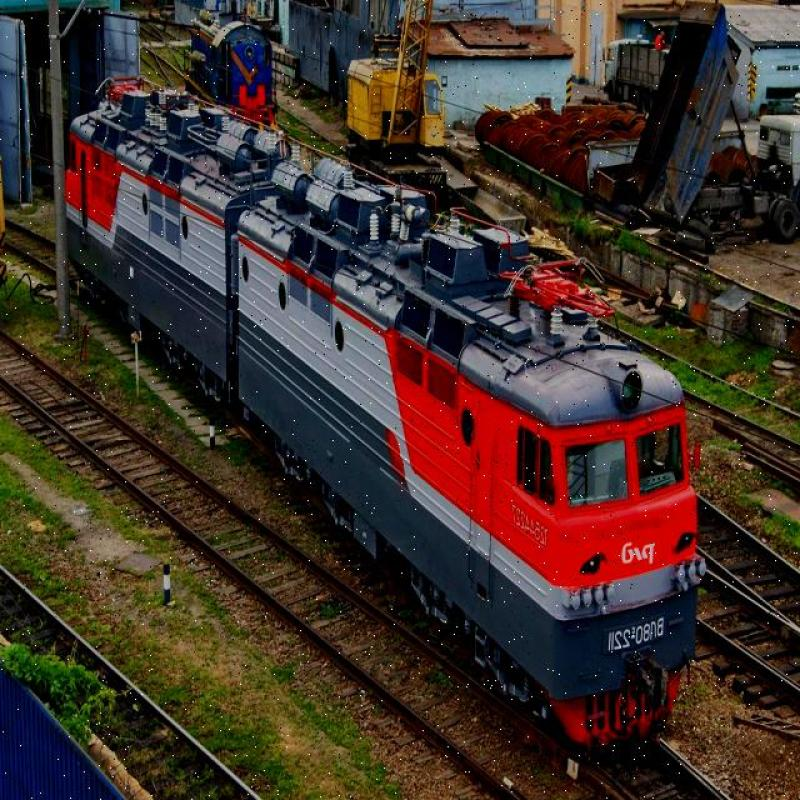train: (69, 86, 689, 747), (211, 29, 275, 115)
